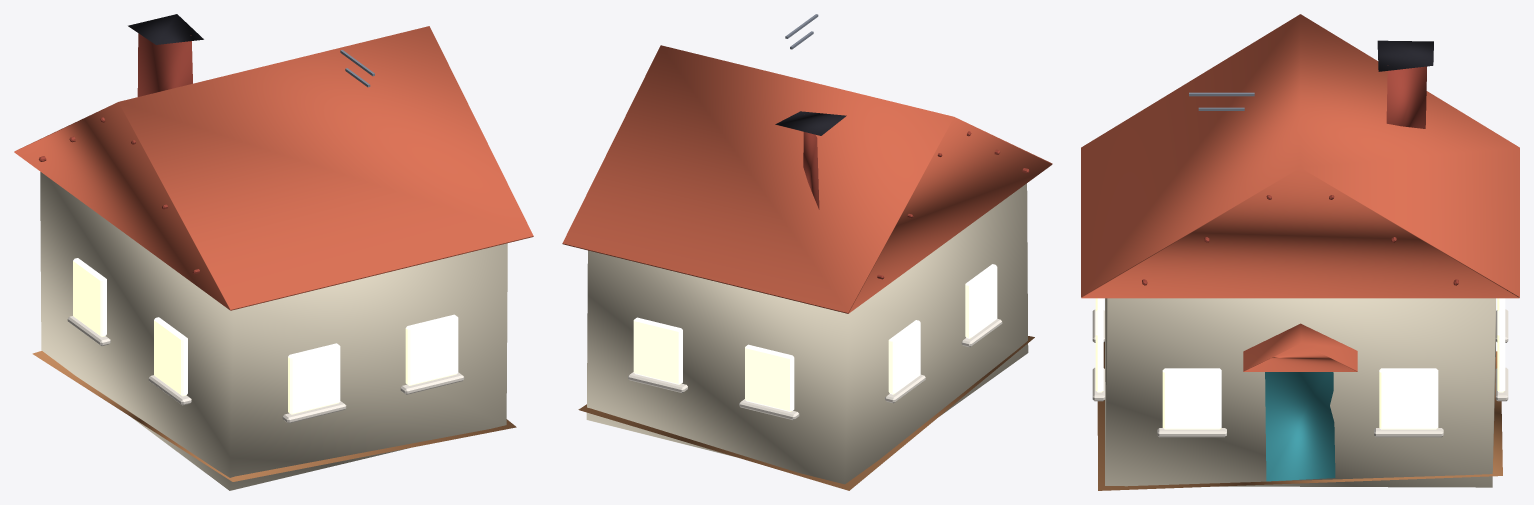
Rendered from house.glb.
The picture shows the model from 3 angles, left to right: view 1: azimuth 30°, elevation 25°; view 2: azimuth 150°, elevation 25°; view 3: azimuth 270°, elevation 25°; orthographic projection. The views are drawn at different scales.
Visible parts, largest first — view 1: house; view 2: house; view 3: house.
Boxes of the visible parts, left/top/right/bottom form: house: left=14, top=14, right=533, bottom=490; house: left=562, top=14, right=1052, bottom=490; house: left=1081, top=14, right=1519, bottom=490.
Bounding box in the file's own units: 6.01 × 5.91 × 6.69.
1 material, 1 textured.
